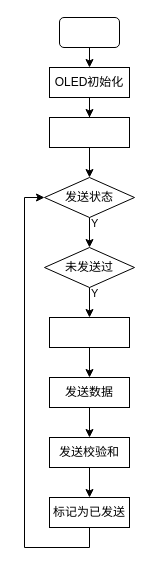
Some shapes in this 152 by 573 pixel diagram are drawn without their labels. Each missing label, with the centre of its shape:
串口初始化: (x=89, y=132)
发送数据长度: (x=89, y=332)
开始: (x=89, y=32)
